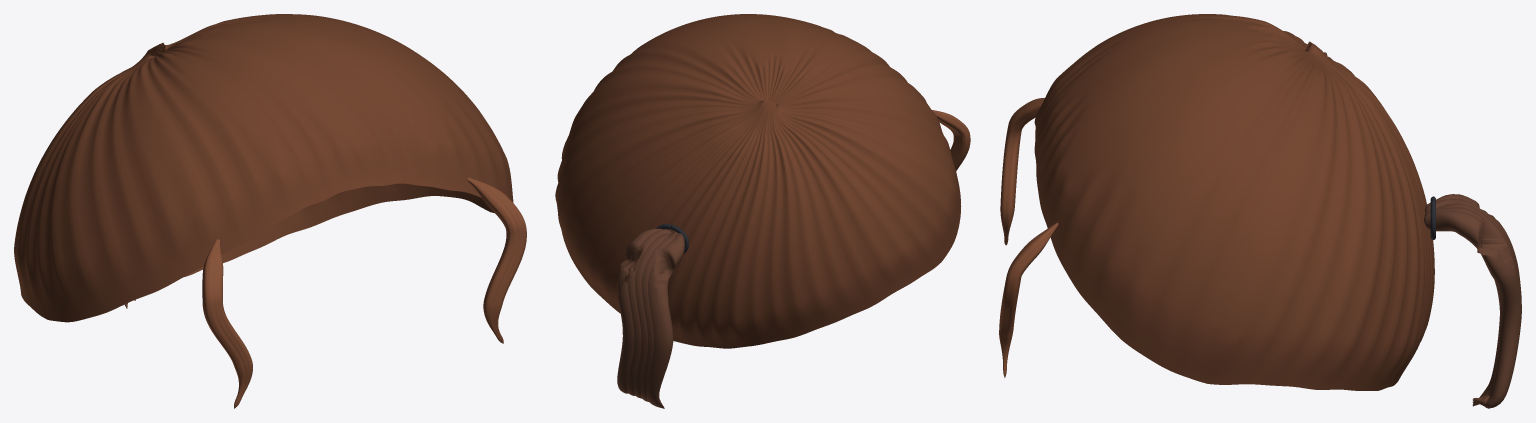
Rendered from Feminine-ponytail-headband251-hair.glb.
3 renders of one model, left to right at view 1: azimuth 30°, elevation 25°; view 2: azimuth 150°, elevation 25°; view 3: azimuth 270°, elevation 25°, orthographic. The views are drawn at different scales.
Parts seen in each view (by area): view 1: 226 hair / Hair / crisp pulled roots220.002, 226 hair / Hair / sculpted front locks222.002; view 2: 226 hair / Hair / crisp pulled roots220.002, 226 hair / Hair / chestnut226.001, 226 hair / Hair / sculpted front locks222.002; view 3: 226 hair / Hair / crisp pulled roots220.002, 226 hair / Hair / chestnut226.001, 226 hair / Hair / sculpted front locks222.002.
Boxes of the visible parts, box(x1,y1,x2,y2) form: 226 hair / Hair / crisp pulled roots220.002: box(14, 14, 513, 322); 226 hair / Hair / sculpted front locks222.002: box(202, 177, 526, 408); 226 hair / Hair / crisp pulled roots220.002: box(555, 14, 961, 348); 226 hair / Hair / chestnut226.001: box(617, 228, 684, 408); 226 hair / Hair / sculpted front locks222.002: box(932, 110, 970, 171); 226 hair / Hair / crisp pulled roots220.002: box(1034, 14, 1434, 390); 226 hair / Hair / chestnut226.001: box(1424, 194, 1521, 408); 226 hair / Hair / sculpted front locks222.002: box(999, 98, 1058, 377).
Size of the model in its own units: 0.9675 by 0.7594 by 0.9676.
